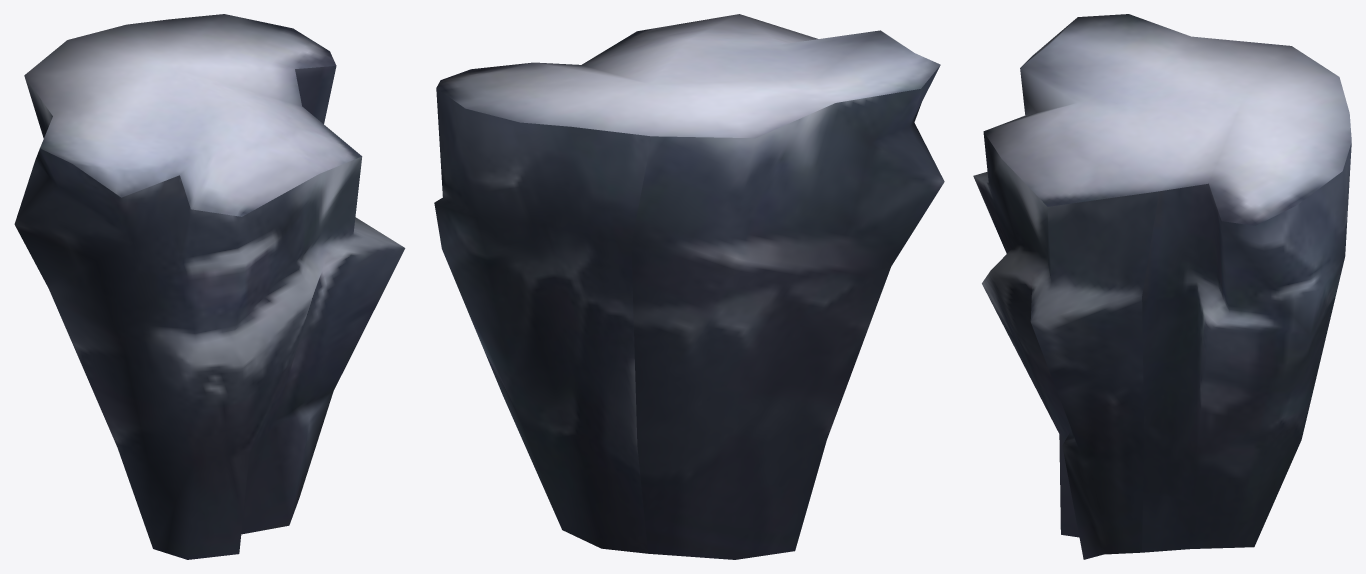
File: LGhuangyuan_shitou01.FBX
The picture shows the model from 3 angles, left to right: view 1: azimuth 30°, elevation 25°; view 2: azimuth 150°, elevation 25°; view 3: azimuth 270°, elevation 25°; orthographic projection. The views are drawn at different scales.
Parts seen in each view (by area): view 1: LGhuangyuan_shitou01; view 2: LGhuangyuan_shitou01; view 3: LGhuangyuan_shitou01.
Part boxes in pixels (left/top/right/bottom): LGhuangyuan_shitou01: left=14, top=14, right=405, bottom=559; LGhuangyuan_shitou01: left=434, top=14, right=944, bottom=559; LGhuangyuan_shitou01: left=973, top=14, right=1351, bottom=559.
Size of the model in its own units: 68.32 by 57.9 by 75.1.
